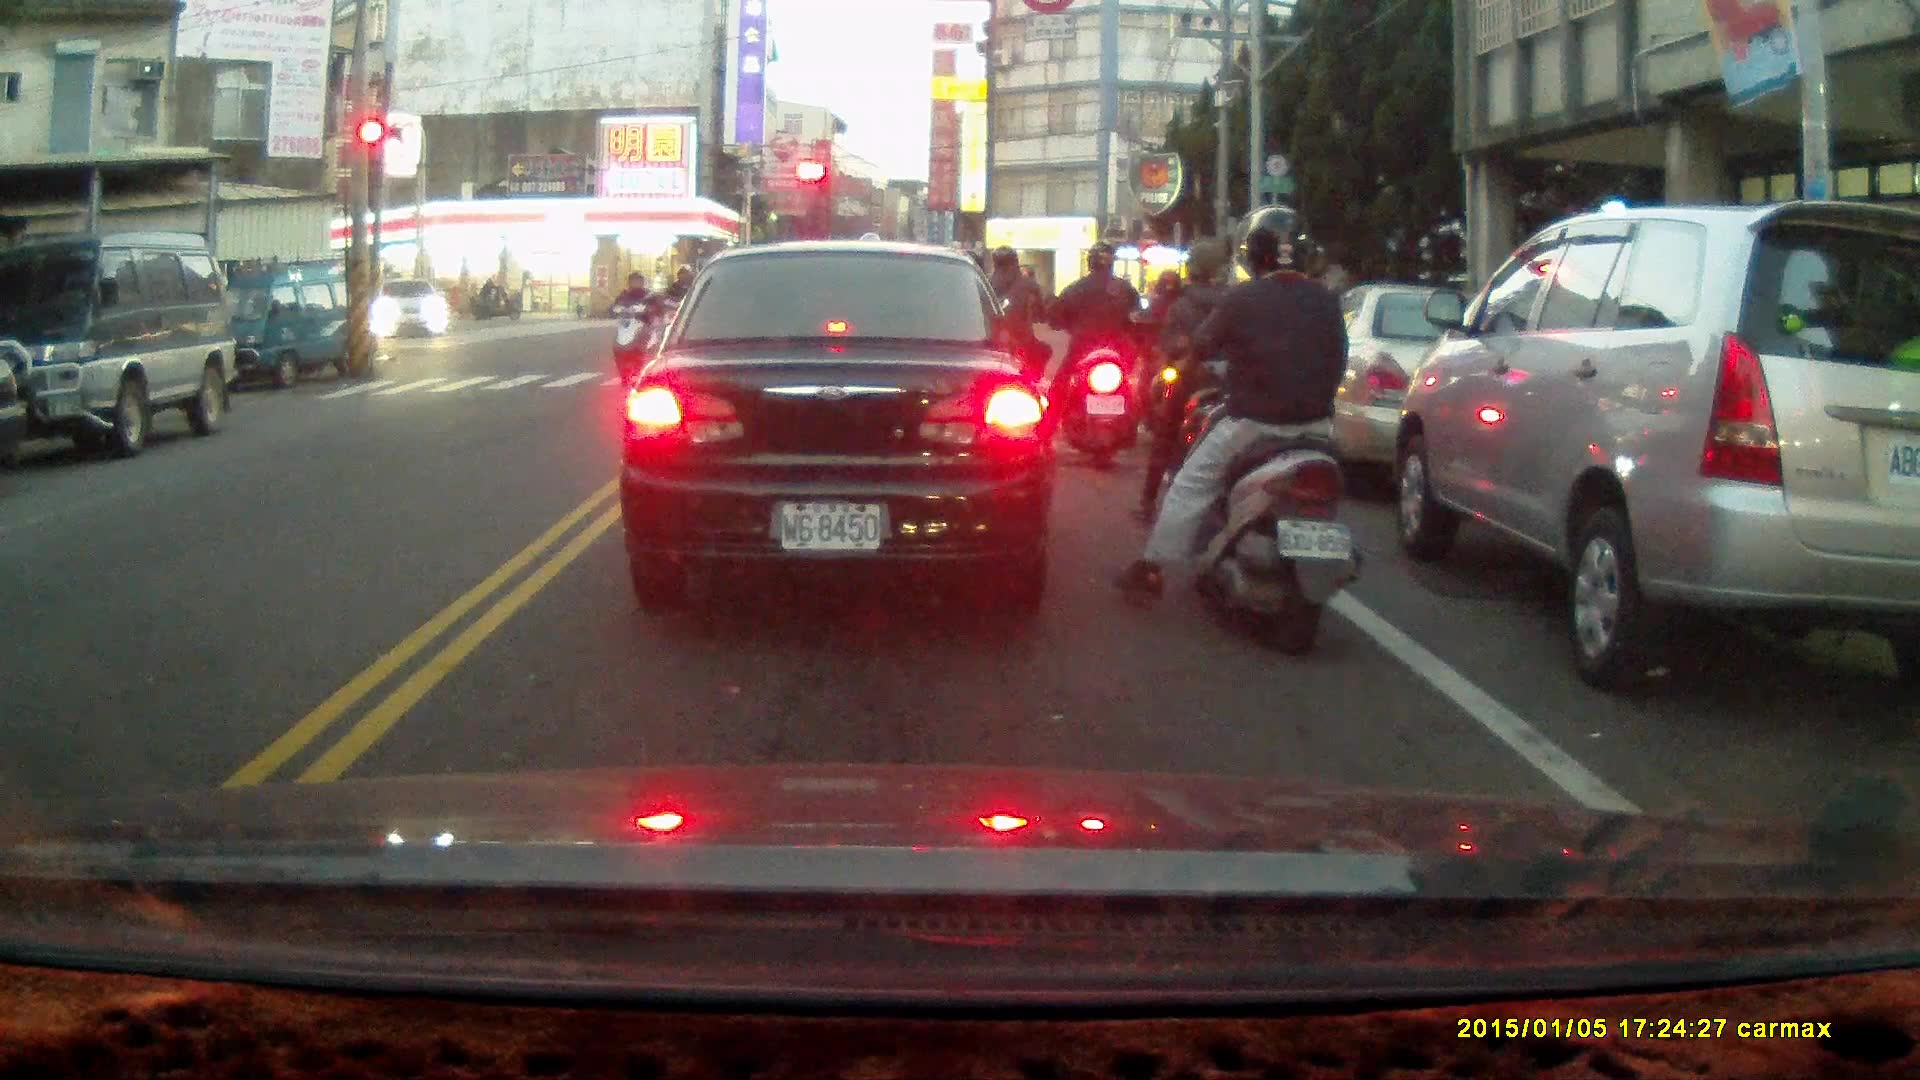pedestrian: (477, 277, 501, 321)
rider: (1107, 206, 1365, 660), (1133, 240, 1255, 541), (1048, 243, 1141, 469), (963, 245, 1049, 448), (1134, 269, 1204, 450), (608, 269, 662, 392), (654, 264, 711, 378)
vehicle: (1385, 195, 1920, 685), (617, 243, 1061, 606), (1, 234, 239, 458), (194, 255, 381, 395), (372, 277, 451, 343)
